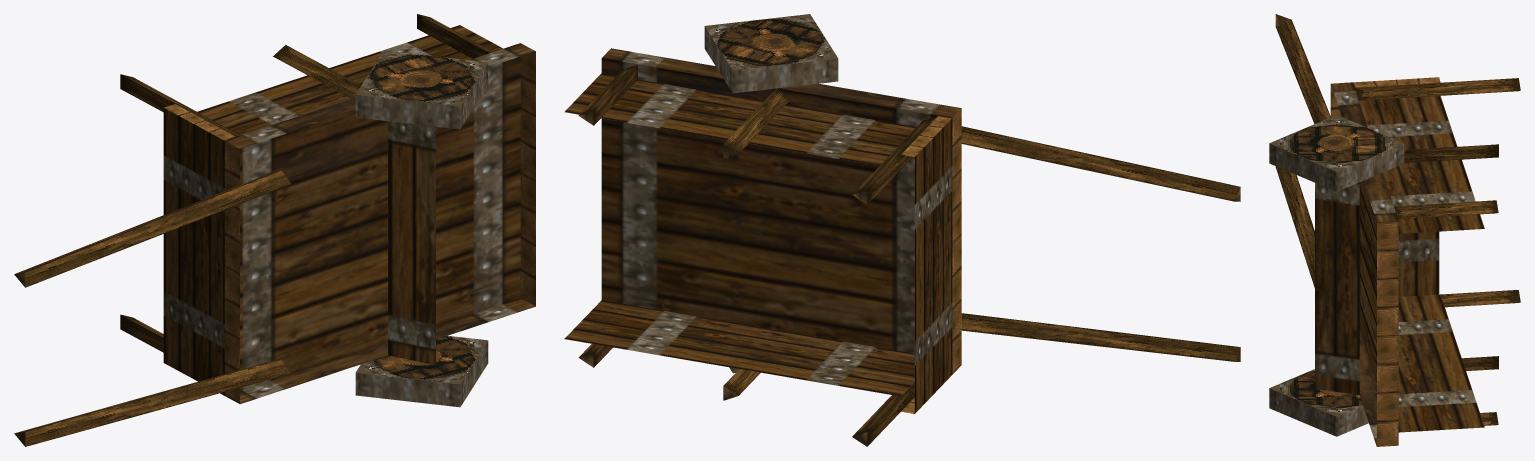
3 renders of one model, left to right at view 1: azimuth 30°, elevation 25°; view 2: azimuth 150°, elevation 25°; view 3: azimuth 270°, elevation 25°, orthographic. The views are drawn at different scales.
Parts seen in each view (by area): view 1: Cube; view 2: Cube; view 3: Cube.
Boxes of the visible parts, x1=… form: Cube: x1=14, y1=14, x2=535, y2=446; Cube: x1=564, y1=14, x2=1240, y2=446; Cube: x1=1269, y1=14, x2=1520, y2=446.
Bounding box in the file's own units: 0.8908 × 0.3864 × 0.4488.
